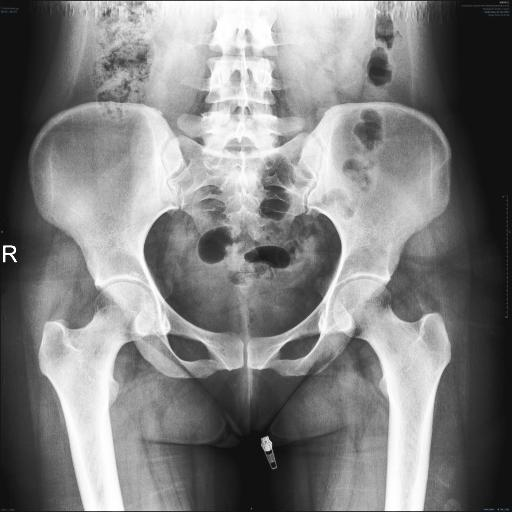normal: (333, 279, 452, 464), (38, 281, 155, 465)
